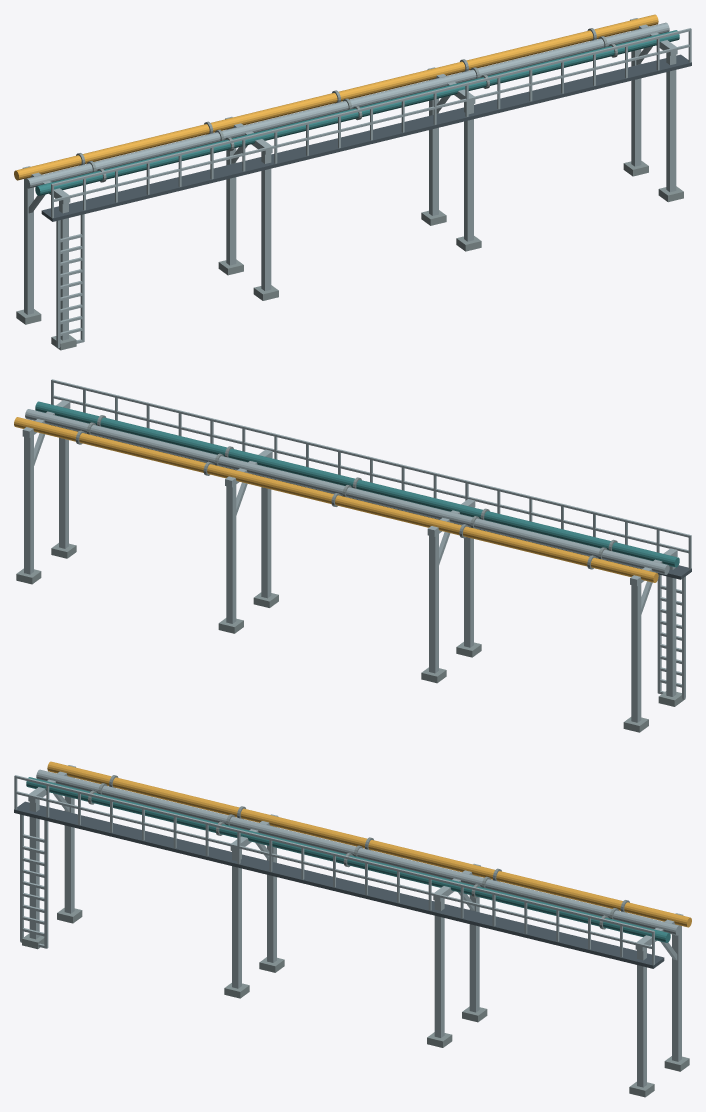
File: lng-pipe-rack.glb
3 renders of one model, top to bottom at view 1: azimuth 30°, elevation 25°; view 2: azimuth 150°, elevation 25°; view 3: azimuth 330°, elevation 25°, orthographic.
Visible parts, largest first — view 1: Pipes, Walkway, Structure; view 2: Pipes, Structure, Walkway; view 3: Pipes, Walkway, Structure.
Boxes of the visible parts, <box> form: Pipes: <box>14,14,679,195</box>; Walkway: <box>41,28,691,348</box>; Structure: <box>16,18,683,350</box>; Pipes: <box>14,401,679,582</box>; Structure: <box>16,400,683,732</box>; Walkway: <box>49,379,691,699</box>; Pipes: <box>26,761,691,942</box>; Walkway: <box>14,775,664,968</box>; Structure: <box>22,765,689,1097</box>.
Bounding box in the file's own units: 20 × 5 × 2.4.
